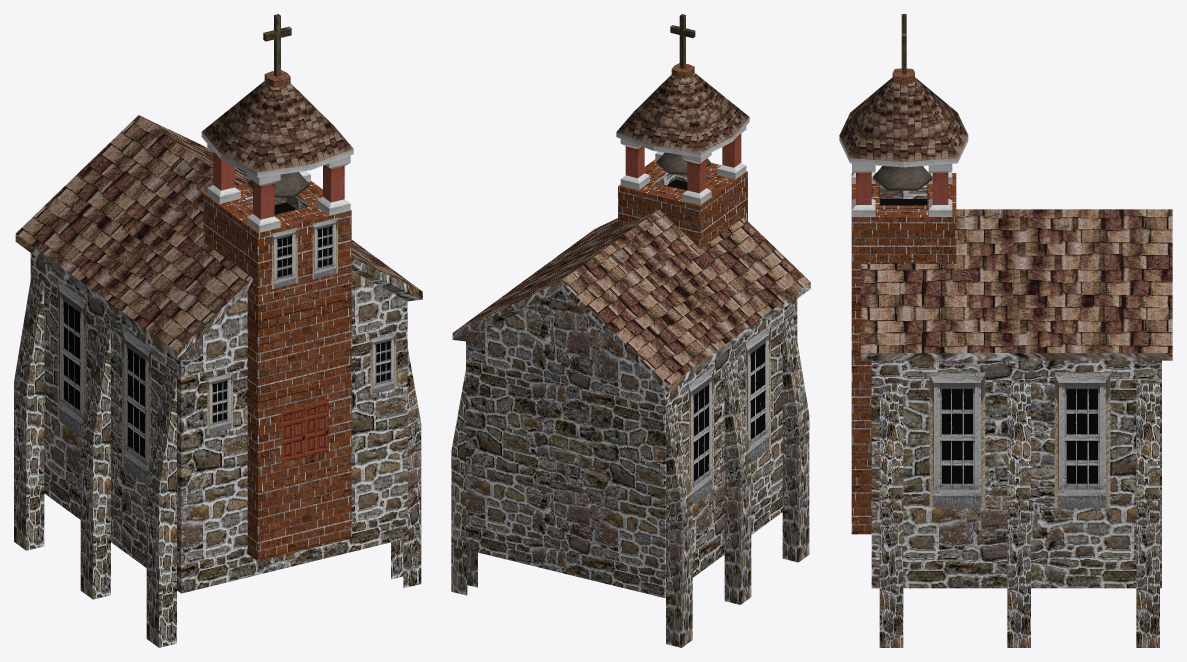
Rendered from brit_church.dae.
3 renders of one model, left to right at view 1: azimuth 30°, elevation 25°; view 2: azimuth 150°, elevation 25°; view 3: azimuth 270°, elevation 25°, orthographic. The views are drawn at different scales.
Visible parts, largest first — view 1: BRITChurch; view 2: BRITChurch; view 3: BRITChurch.
Boxes of the visible parts, box(x1,y1,x2,y2) form: BRITChurch: box(14, 14, 422, 647); BRITChurch: box(451, 14, 810, 647); BRITChurch: box(839, 14, 1172, 647).
Size of the model in its own units: 24.7 by 28.13 by 53.17.
